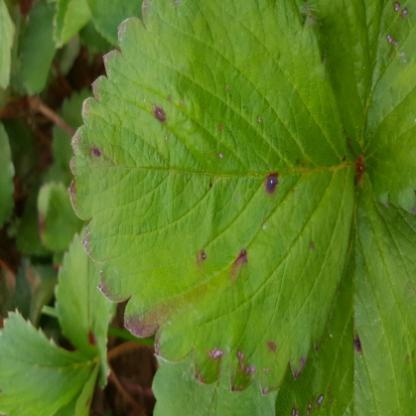Strawberry_Leaf_Spot: (67, 0, 356, 397), (275, 166, 415, 416), (294, 0, 416, 212), (53, 228, 116, 392)
